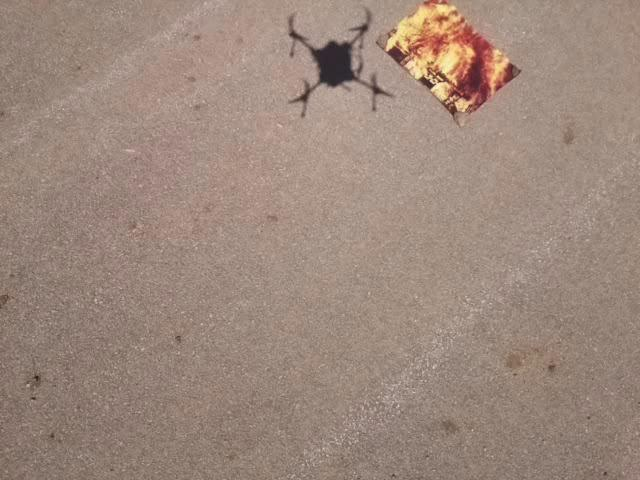fire-poster: (375, 0, 522, 128)
